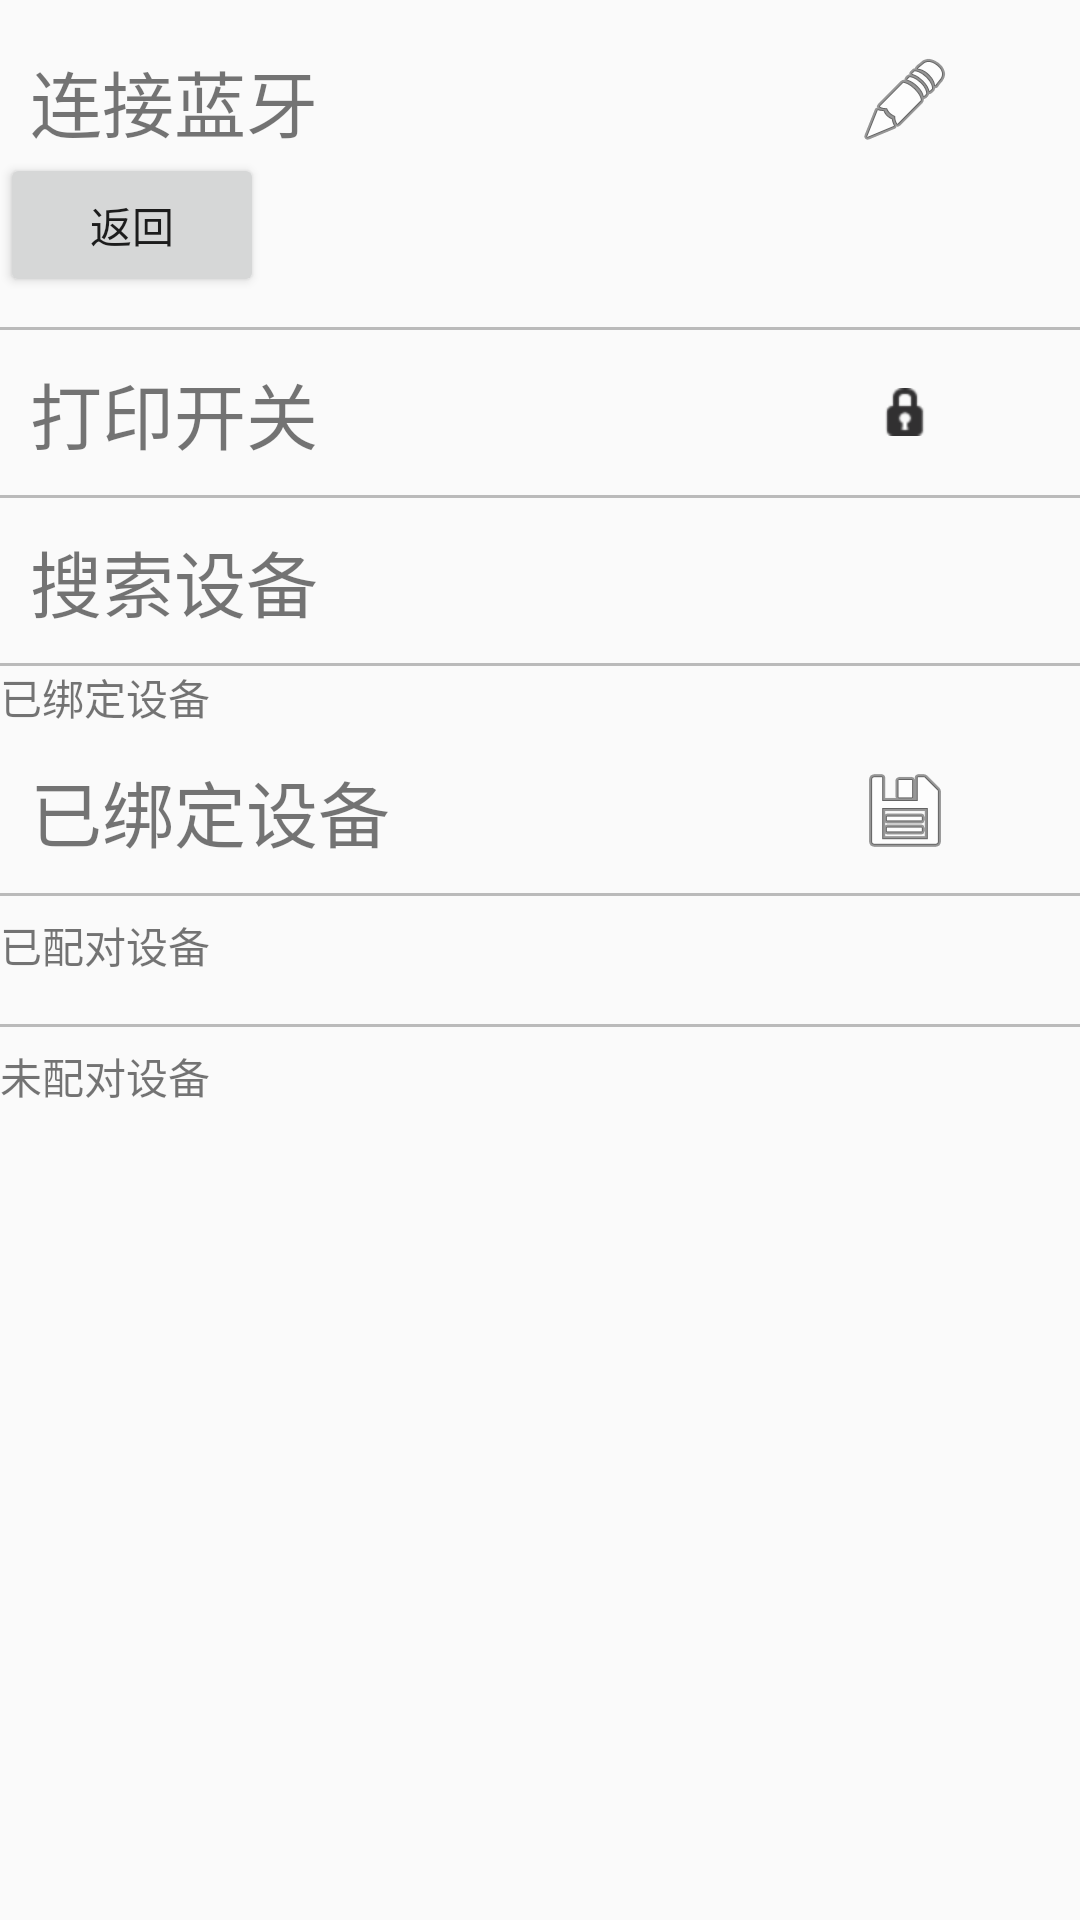

Screen size 1080*1920. Icon name, then its center in pixels as [x,y]:
edit: [904,99]
save: [905,810]
secure: [905,412]
